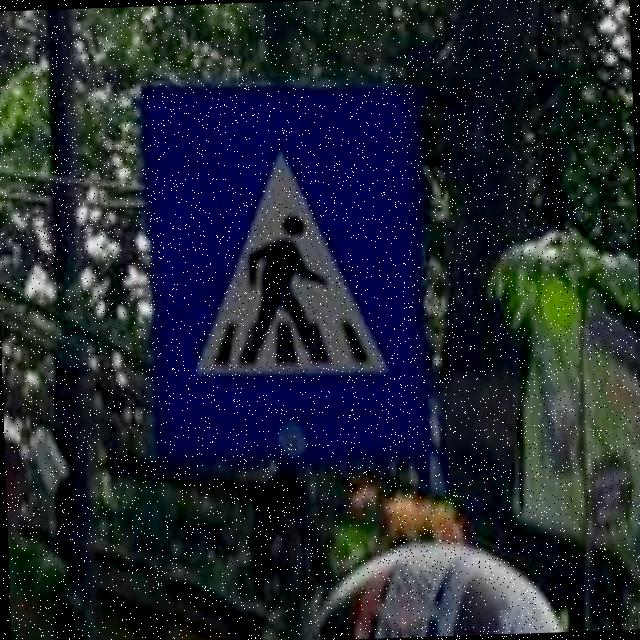Przejscie dla pieszych: (133, 75, 439, 471)
